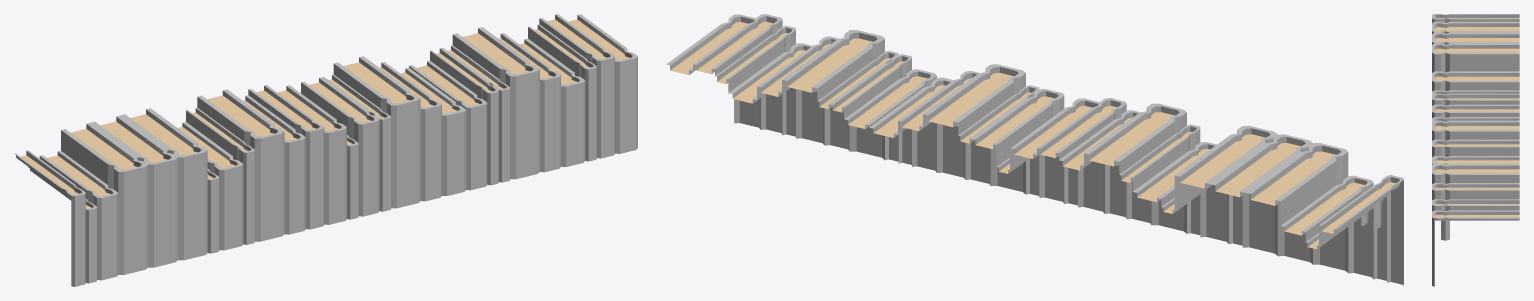
File: prop_biblioteca_libros001.fbx
3 views of the same model, side by side, from view 1: azimuth 30°, elevation 25°; view 2: azimuth 150°, elevation 25°; view 3: azimuth 270°, elevation 25° (orthographic). The views are drawn at different scales.
Visible parts, largest first — view 1: prop_biblioteca_libros001; view 2: prop_biblioteca_libros001; view 3: prop_biblioteca_libros001.
Boxes of the visible parts, left/top/right/bottom form: prop_biblioteca_libros001: left=14, top=14, right=637, bottom=286; prop_biblioteca_libros001: left=666, top=14, right=1403, bottom=286; prop_biblioteca_libros001: left=1432, top=14, right=1519, bottom=286.
Bounding box in the file's own units: 200 × 34.7 × 36.04.
